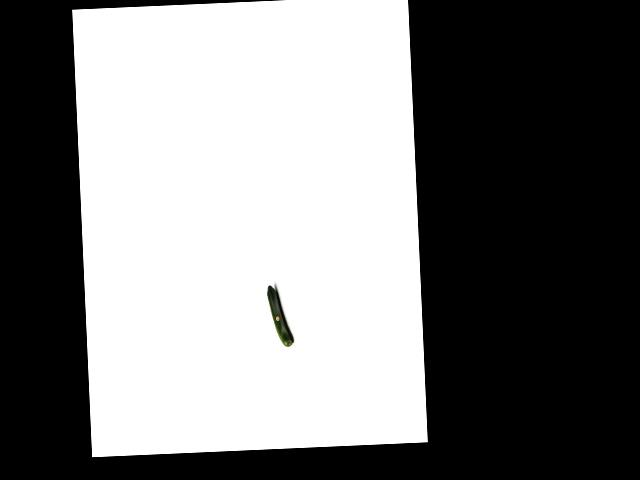cucumber: (267, 284, 293, 348)
